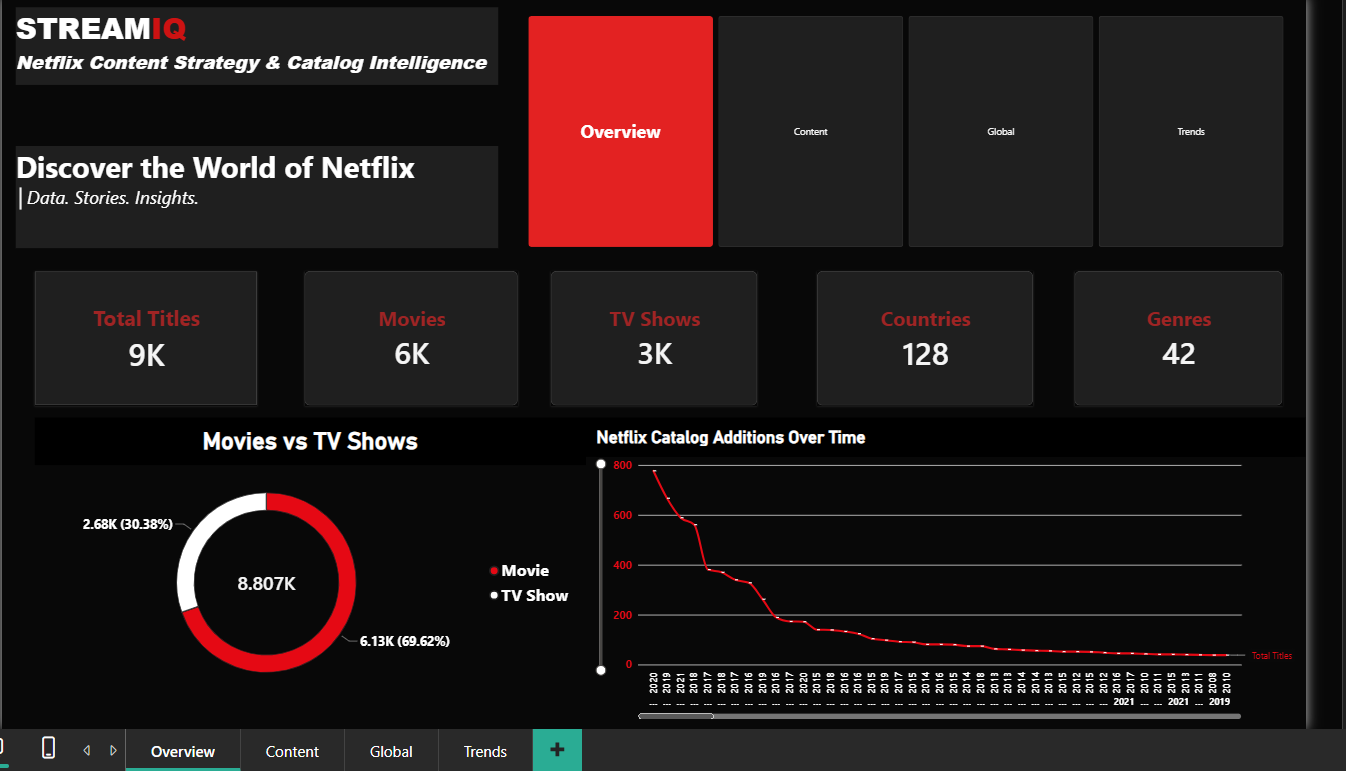

This screenshot's page, from the dashboard's own definition file:
{"tool":"powerbi","page":{"name":"Overview","canvas":[1920,1080],"ordinal":0},"visuals":[{"type":"textbox","box":[20,16,710,114],"z":0},{"type":"pageNavigator","box":[774,30,1112,340],"z":1000},{"type":"textbox","box":[20.2,220.9,710,150],"z":2000},{"type":"cardVisual","fields":{"Data":["public netflix_countries.Total Titles"]},"box":[48,404,328,198],"z":3000},{"type":"cardVisual","fields":{"Data":["public netflix_countries.Movies"]},"box":[446,404,314,198],"z":4000},{"type":"cardVisual","fields":{"Data":["public netflix_countries.TV Shows"]},"box":[808,404,304,198],"z":5000},{"type":"cardVisual","fields":{"Data":["public netflix_countries.Genres"]},"box":[1580,404,306,198],"z":6000},{"type":"cardVisual","fields":{"Data":["public netflix_countries.Countries"]},"box":[1200,404,318,198],"z":7000},{"type":"donutChart","title":"Movies vs TV Shows","fields":{"Category":["public netflix_titles.type"],"Y":["CountNonNull(public netflix_titles.show_id)"]},"box":[48,620,812,432],"z":8000},{"type":"lineChart","title":"Netflix Catalog Additions Over Time","fields":{"Category":["public netflix_titles.year_added","public netflix_titles.release_year"],"Y":["public netflix_countries.Total Titles"]},"box":[860,620,1060,460],"z":9000}]}

Visuals, with their boxes on the page's 1920x1080 design canvas (x1, y1, x2, y2). These are canvas units, not pixel positions in the 1346x771 screenshot, which may show the page scaled, cropped or inside an application window:
textbox: left=20, top=16, right=730, bottom=130
pageNavigator: left=774, top=30, right=1886, bottom=370
textbox: left=20, top=221, right=730, bottom=371
cardVisual - public netflix_countries.Total Titles: left=48, top=404, right=376, bottom=602
cardVisual - public netflix_countries.Movies: left=446, top=404, right=760, bottom=602
cardVisual - public netflix_countries.TV Shows: left=808, top=404, right=1112, bottom=602
cardVisual - public netflix_countries.Genres: left=1580, top=404, right=1886, bottom=602
cardVisual - public netflix_countries.Countries: left=1200, top=404, right=1518, bottom=602
"Movies vs TV Shows" donutChart: left=48, top=620, right=860, bottom=1052
"Netflix Catalog Additions Over Time" lineChart: left=860, top=620, right=1920, bottom=1080
